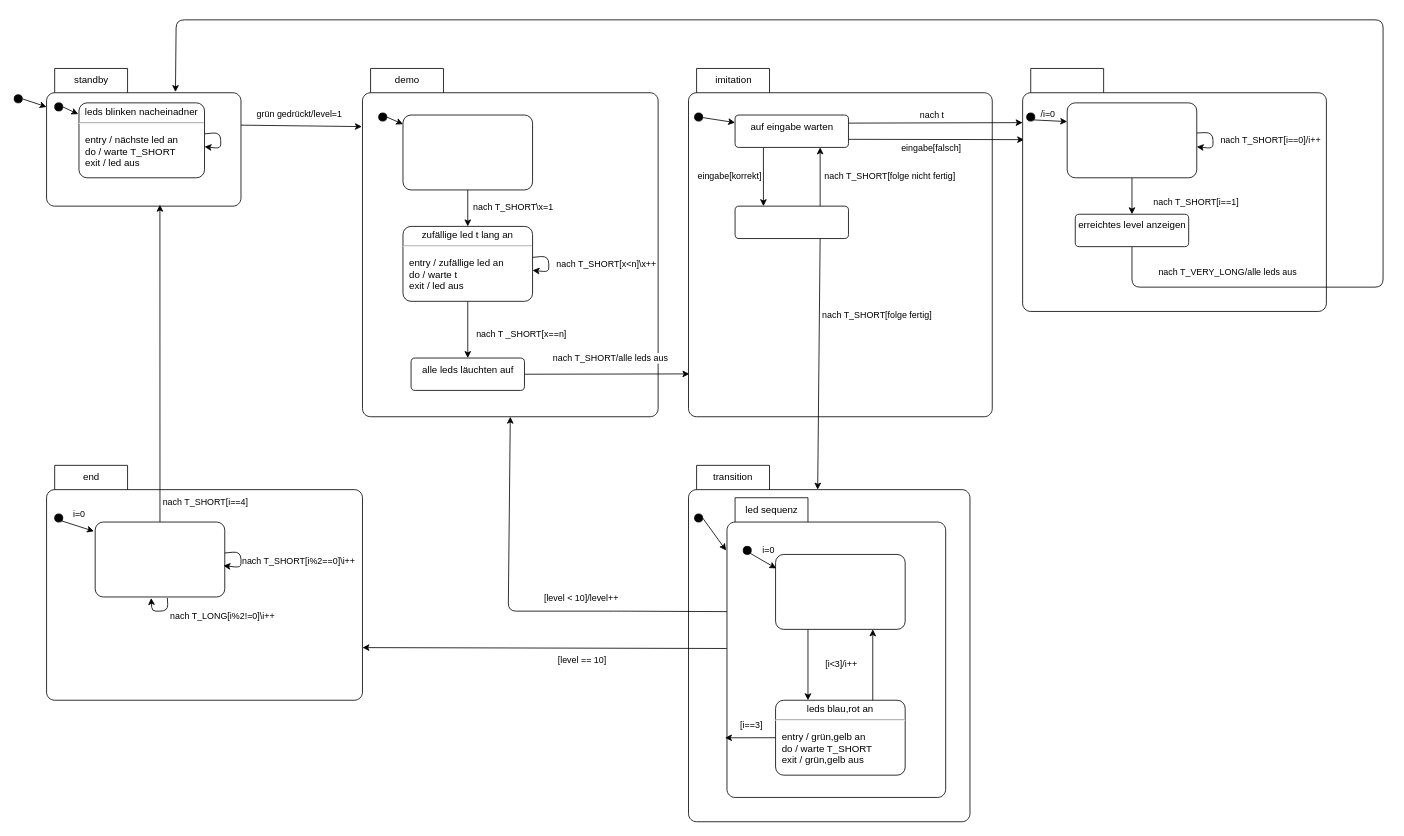
This 1404x836 diagram has some shape labels left out. Here are the shapes that lost their labels. From the top down, the box of each, then its label:
(402, 114, 533, 190): leds gelb,blau an entry / gelb,blau an do / warte T_SHORT exit / gelb,blau aus
(1066, 102, 1197, 178): leds grün,rot an entry / grün,rot an do / warte T_SHORT exit / grün,rot aus
(1022, 68, 1326, 311): lose
(734, 205, 848, 239): richtige led leuchtet auf
(94, 521, 225, 597): leds an entry / alle leds aus do / warte T_SHORT exit / alle leds an
(775, 554, 905, 629): leds grün,gelb an entry / grün,gelb an do / warte T_SHORT exit / grün,gelb aus
